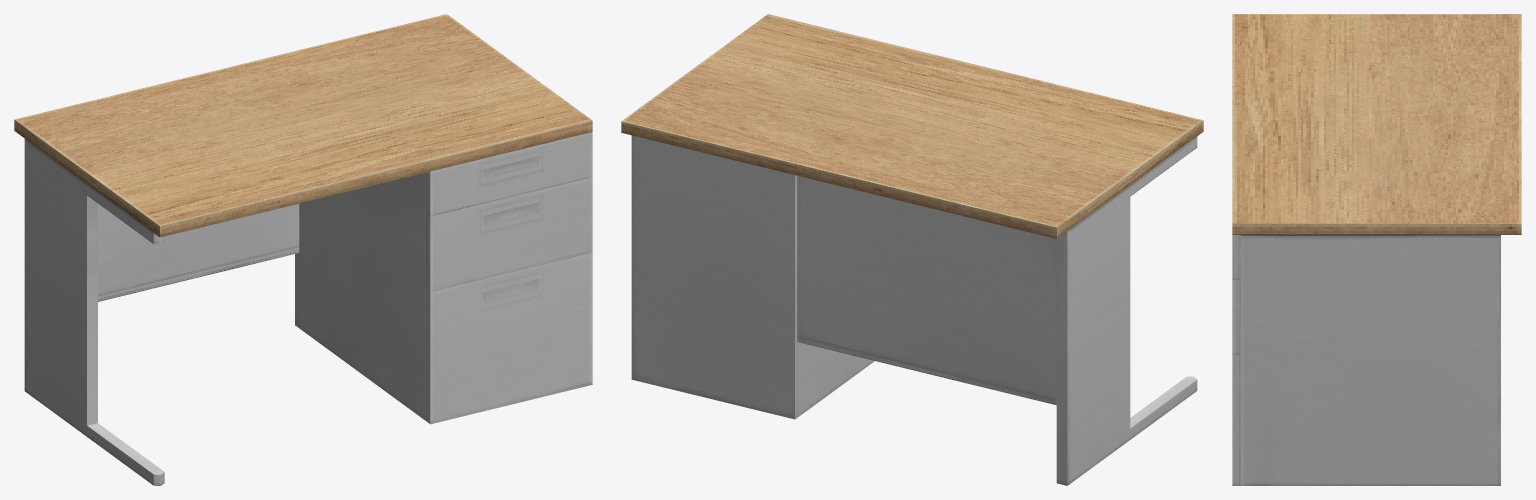
File: DeskSimple.glb
The picture shows the model from 3 angles, left to right: view 1: azimuth 30°, elevation 25°; view 2: azimuth 150°, elevation 25°; view 3: azimuth 270°, elevation 25°; orthographic projection.
Parts seen in each view (by area): view 1: desk-simple; view 2: desk-simple; view 3: desk-simple.
Part boxes in pixels (x1,y1,x2,y2): desk-simple: (14, 14, 592, 485); desk-simple: (621, 14, 1203, 485); desk-simple: (1232, 14, 1521, 485).
Bounding box in the file's own units: 1.2 × 0.7 × 0.7.
Materials: 1 (1 with a texture image).
